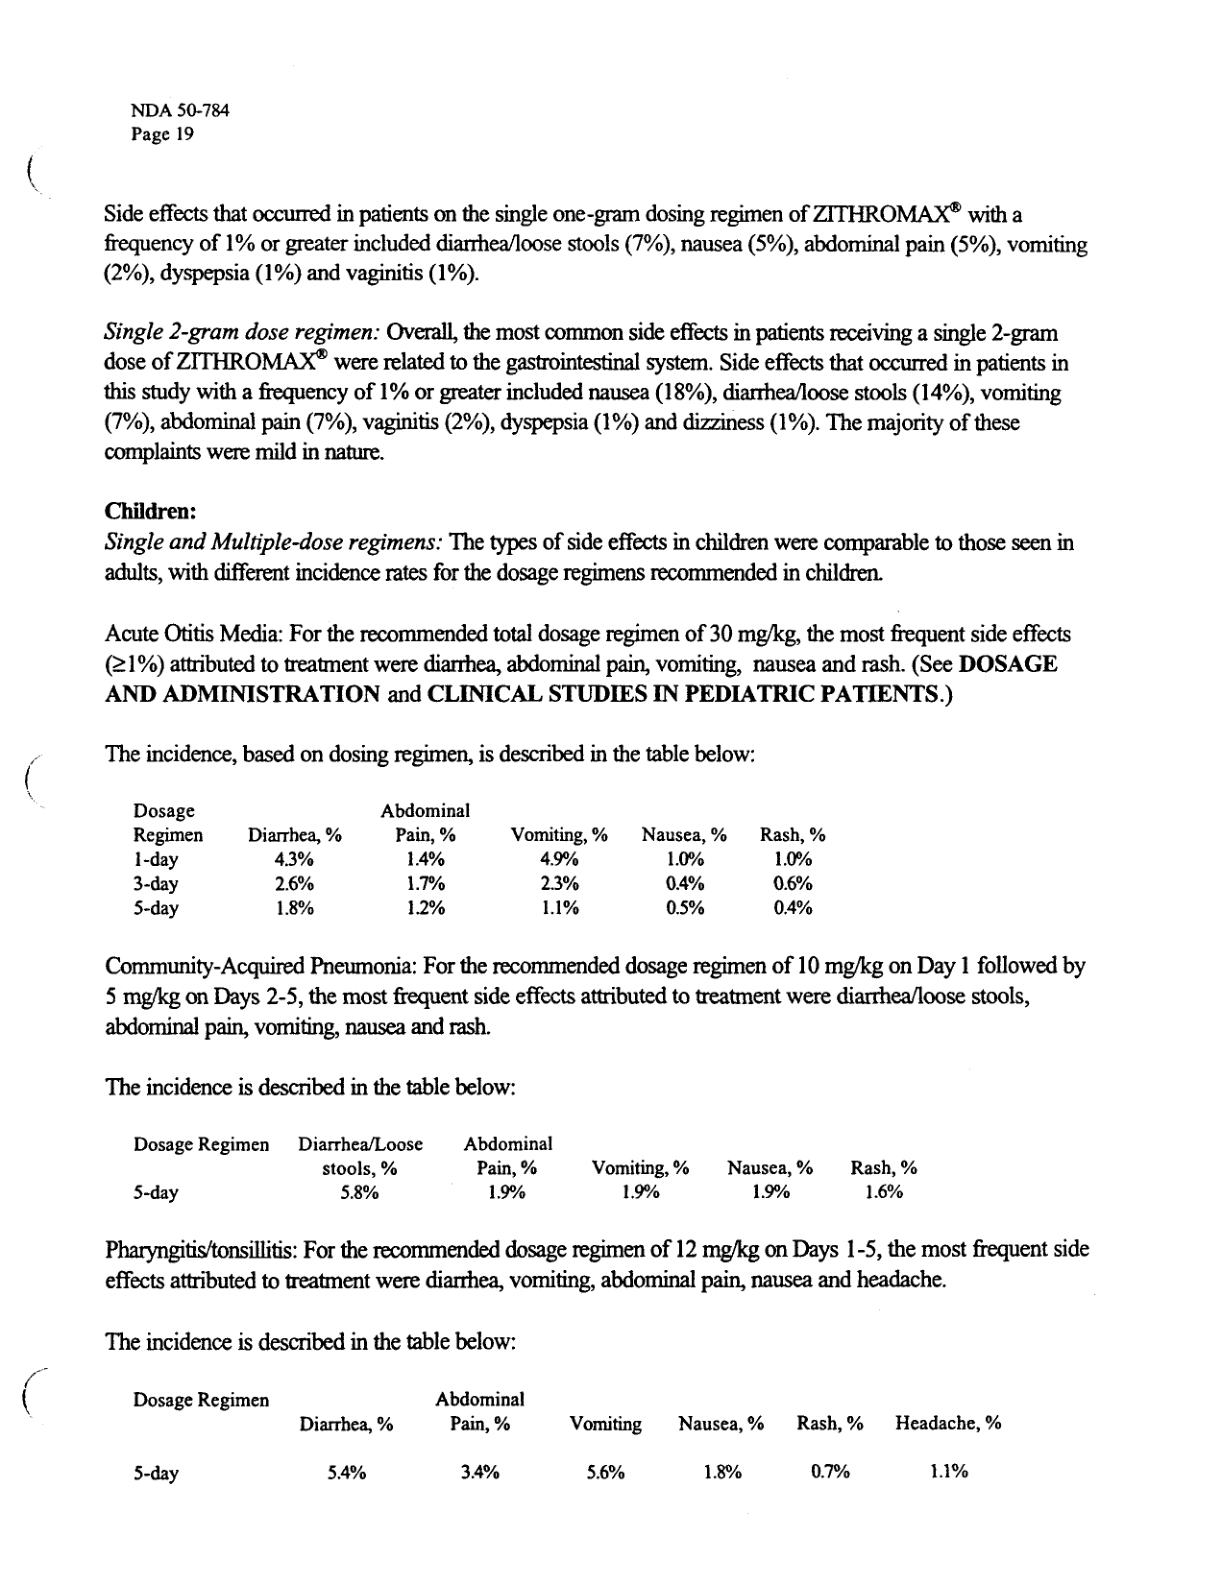nolines: (132, 800, 825, 918), (132, 1390, 1004, 1483), (133, 1136, 919, 1204)
